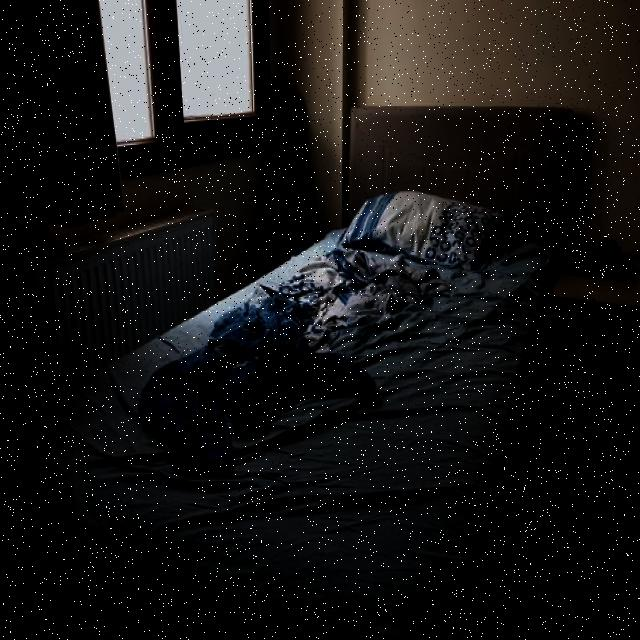bed: (55, 172, 547, 598)
